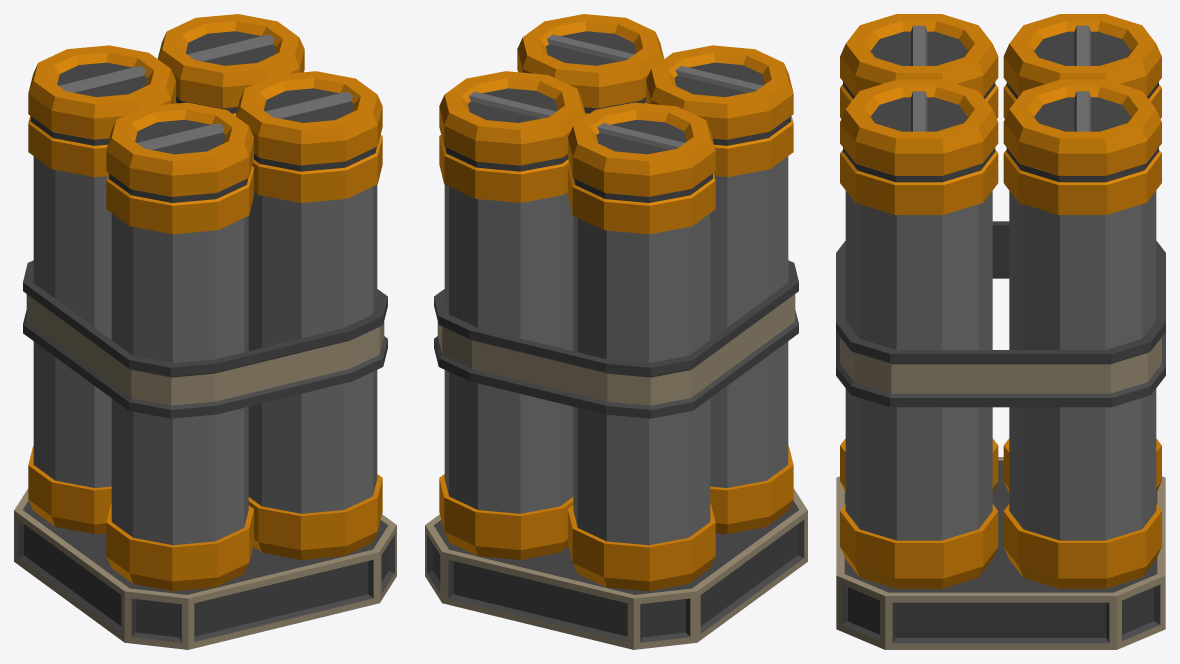
Rendered from CanisterSpaceship.fbx.
3 views of the same model, side by side, from view 1: azimuth 30°, elevation 25°; view 2: azimuth 150°, elevation 25°; view 3: azimuth 270°, elevation 25° (orthographic). The views are drawn at different scales.
Parts seen in each view (by area): view 1: Canister00; view 2: Canister00; view 3: Canister00.
Part boxes in pixels (x1,y1,x2,y2): Canister00: (14, 14, 396, 649); Canister00: (425, 14, 807, 649); Canister00: (836, 14, 1165, 649).
Bounding box in the file's own units: 44.82 × 75.76 × 44.91.
